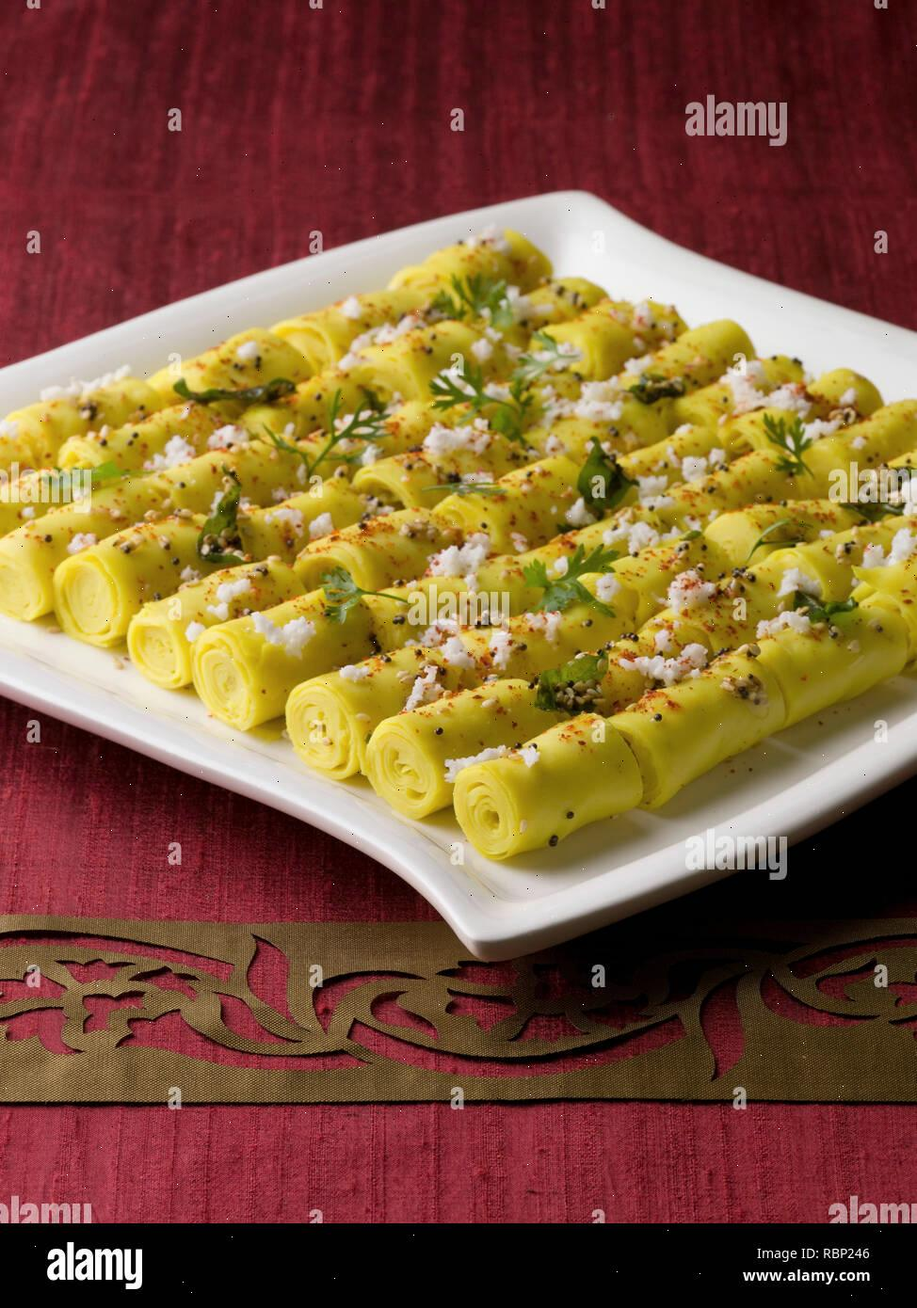khandvi: (0, 326, 917, 803)
